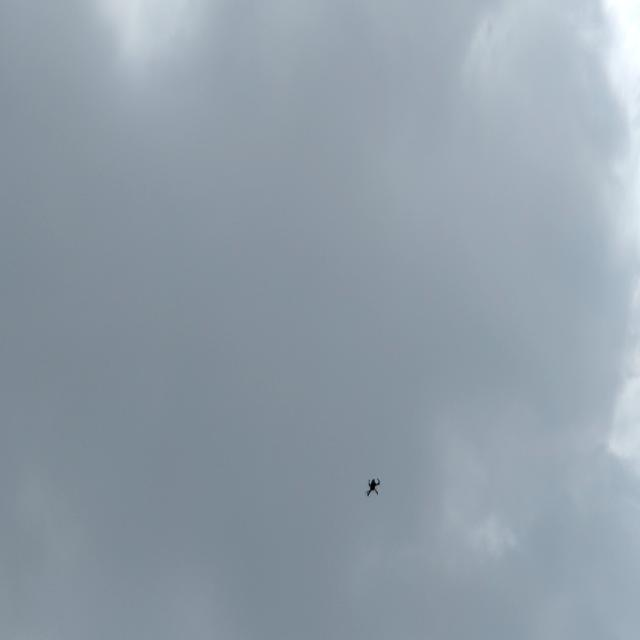drone: (363, 471, 384, 501)
